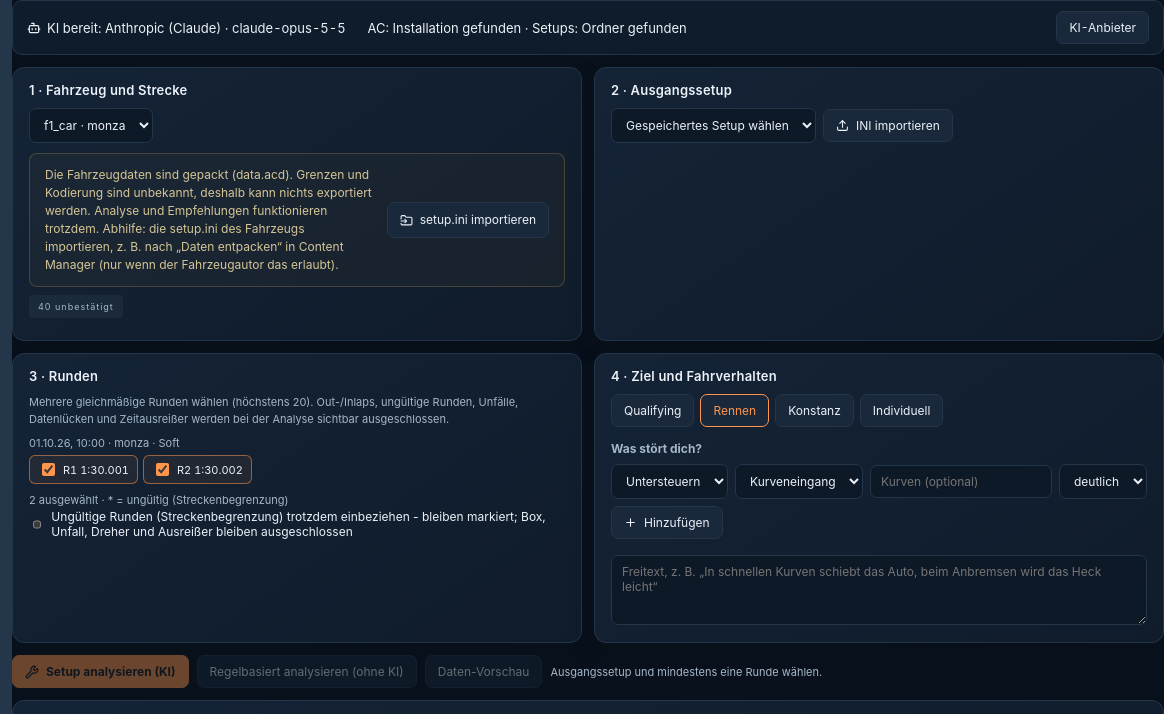
AI error is shown honestly with a rule-based fallback offer
Select "generic / last.ini · 21.9.2026" in the dropdown named "Ausgangssetup": (714, 126) [611,108,816,143]
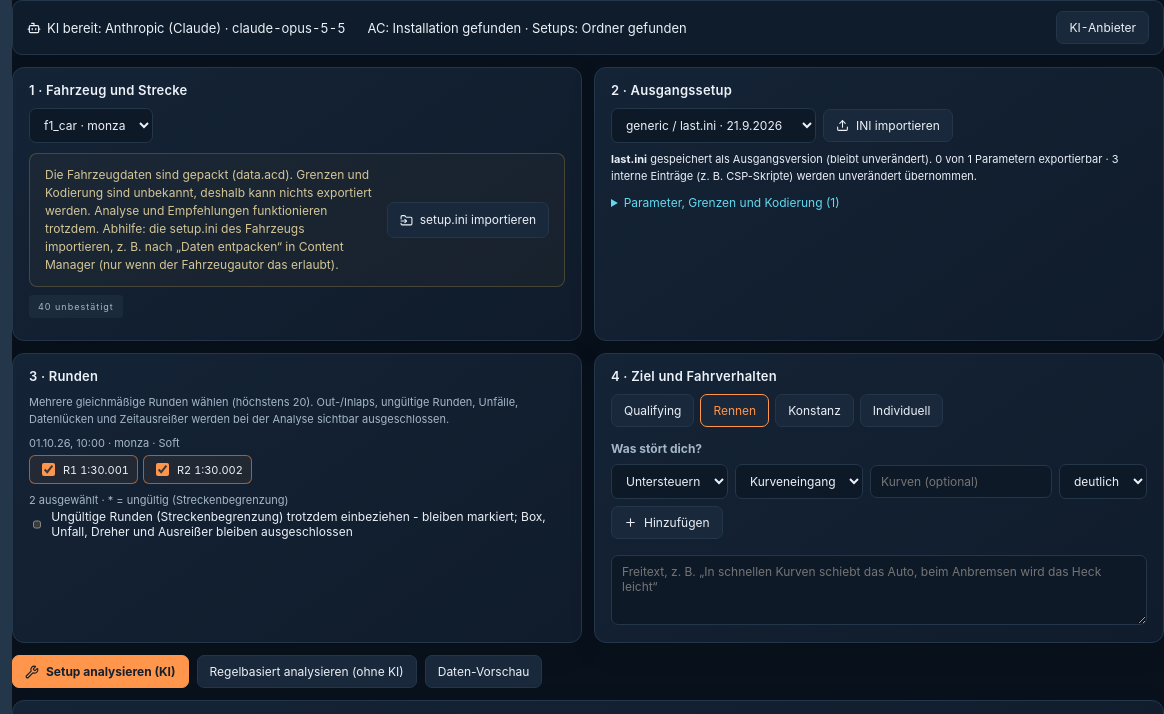
Expected: the element with test id "base-info" is shown, [611,151,1147,185]
Expected: the button with test id "analyze-ai" is enabled
Click the button with test id "analyze-ai": (100, 672) [12,655,188,688]
(page scrolled)
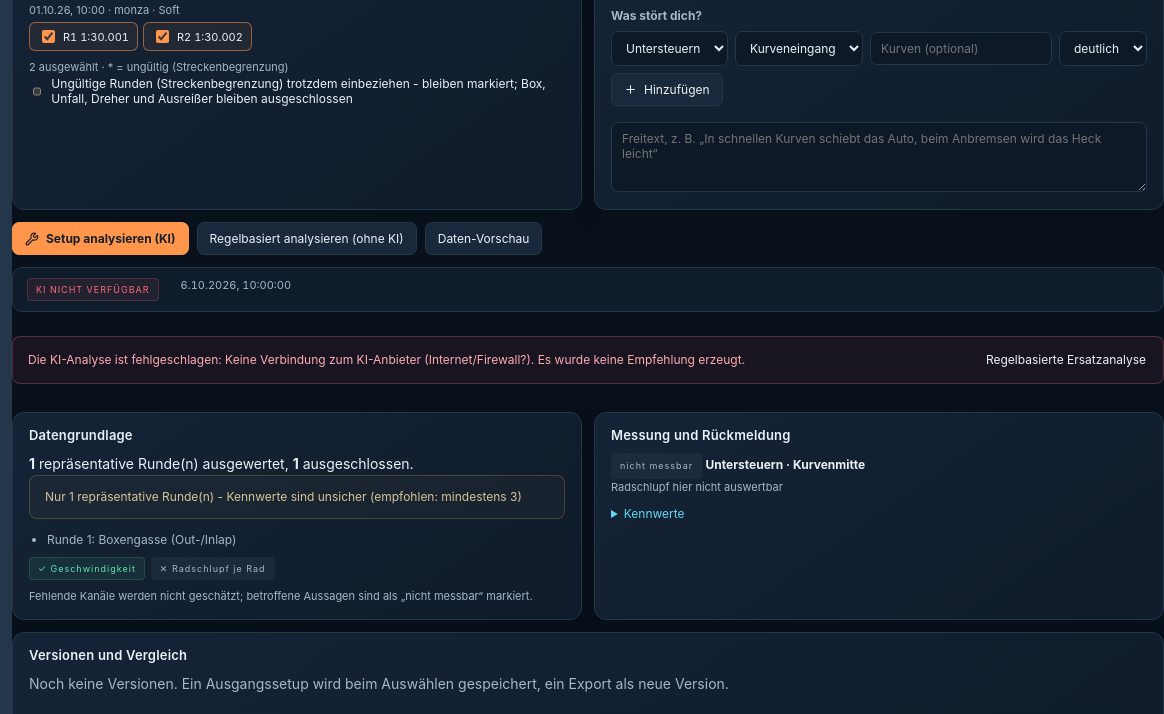
Expected: the message with test id "setup-ai-error" shows "Keine Verbindung zum KI-Anbieter", [225,352,531,367]
Expected: the message with test id "setup-ai-error" shows "Es wurde keine Empfehlung erzeugt", [531,352,745,367]
Expected: the button "Regelbasierte Ersatzanalyse" is shown, [984,349,1148,371]
